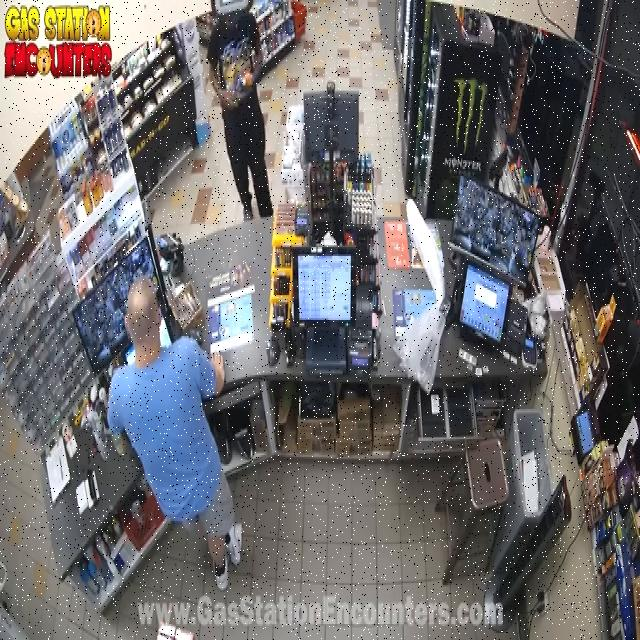person: (109, 277, 241, 588), (207, 0, 271, 220)
